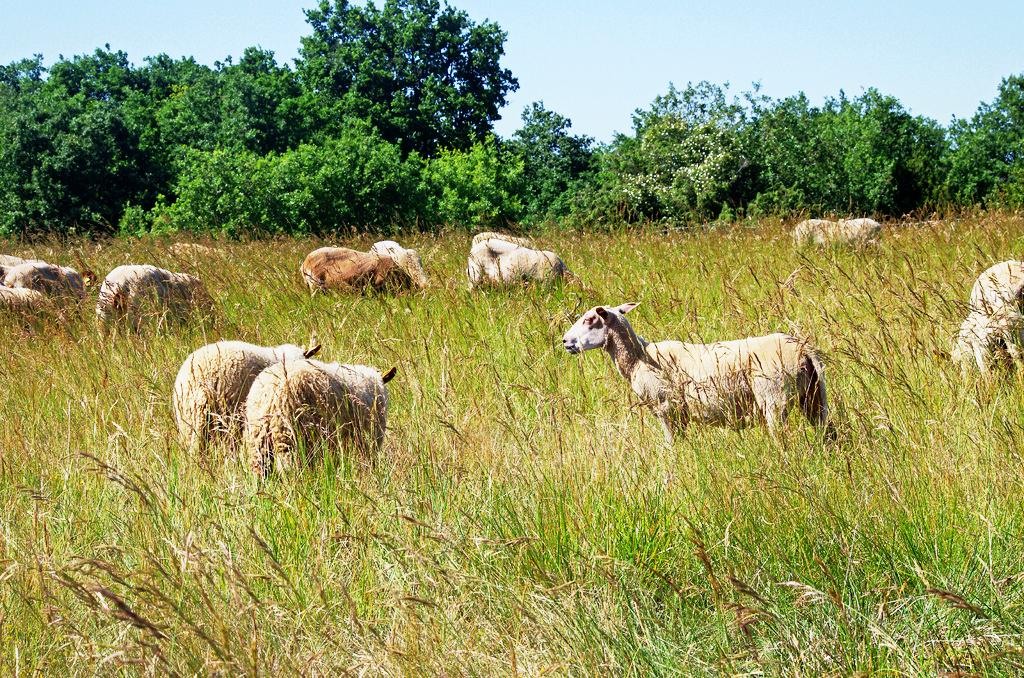Sheep: (552, 295, 842, 461), (170, 341, 322, 465), (242, 362, 390, 472)
